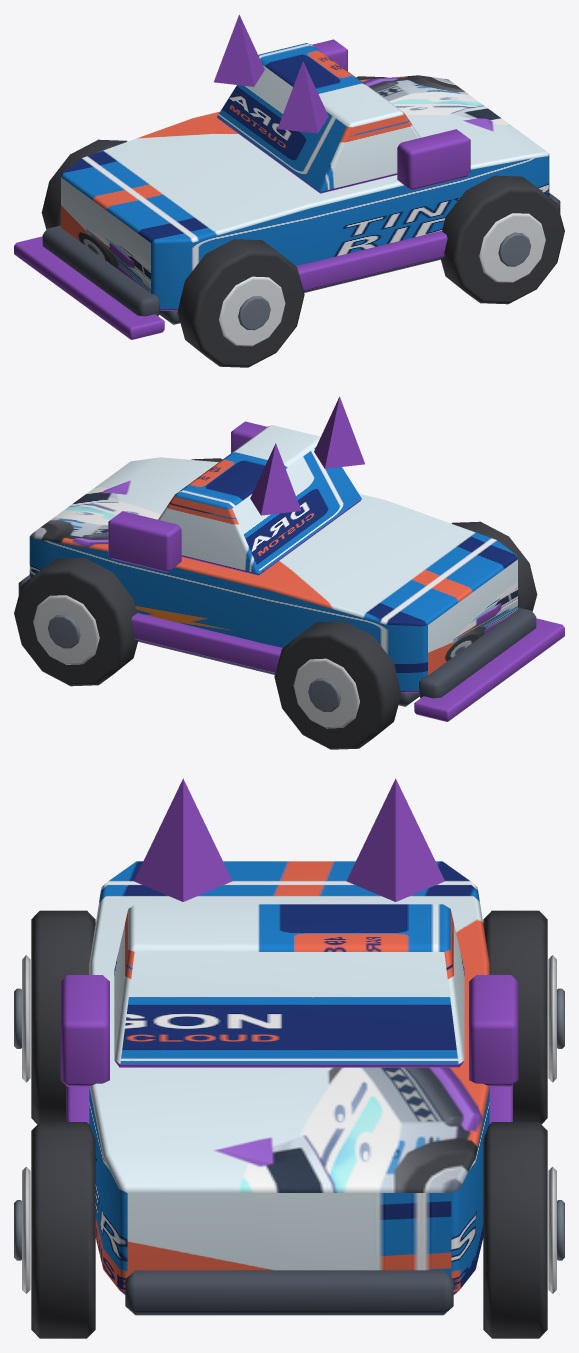
The picture shows the model from 3 angles, top to bottom: view 1: azimuth 30°, elevation 25°; view 2: azimuth 150°, elevation 25°; view 3: azimuth 270°, elevation 25°; orthographic projection. The views are drawn at different scales.
Visible parts, largest first — view 1: CR-05_connected_shell, CR-05_cabin, Tire, Tire.002, custom chin, custom side guard, custom side fin, front bumper, Rim.002, Rim, horn, horn.001 (+5 smaller); view 2: CR-05_connected_shell, CR-05_cabin, Tire.001, Tire.003, custom chin, custom side guard.001, custom side fin.001, front bumper, Rim.003, Rim.001, horn.001, horn (+5 smaller); view 3: CR-05_connected_shell, CR-05_cabin, rear bumper, Tire.002, Tire.003, Tire, Tire.001, horn, horn.001, custom side fin, custom side fin.001, Rim.002 (+5 smaller).
Part boxes in pixels (bbox=[...]): CR-05_connected_shell: bbox=[61, 75, 549, 310]; CR-05_cabin: bbox=[217, 43, 420, 193]; Tire: bbox=[177, 239, 304, 367]; Tire.002: bbox=[440, 175, 564, 304]; custom chin: bbox=[14, 236, 164, 339]; custom side guard: bbox=[296, 230, 447, 291]; custom side fin: bbox=[397, 129, 470, 190]; front bumper: bbox=[42, 225, 160, 316]; Rim.002: bbox=[479, 213, 545, 282]; Rim: bbox=[219, 276, 285, 346]; horn: bbox=[277, 61, 328, 133]; horn.001: bbox=[214, 14, 264, 86]; CR-05_connected_shell: bbox=[29, 457, 517, 692]; CR-05_cabin: bbox=[158, 425, 361, 575]; Tire.001: bbox=[274, 621, 401, 749]; Tire.003: bbox=[14, 557, 138, 686]; custom chin: bbox=[414, 618, 564, 721]; custom side guard.001: bbox=[131, 612, 282, 673]; custom side fin.001: bbox=[108, 511, 181, 572]; front bumper: bbox=[418, 607, 536, 698]; Rim.003: bbox=[33, 595, 99, 664]; Rim.001: bbox=[293, 658, 359, 728]; horn.001: bbox=[250, 443, 301, 515]; horn: bbox=[314, 396, 364, 468]; CR-05_connected_shell: bbox=[89, 861, 489, 1294]; CR-05_cabin: bbox=[114, 904, 464, 1067]; rear bumper: bbox=[125, 1270, 453, 1315]; Tire.002: bbox=[31, 1122, 95, 1338]; Tire.003: bbox=[483, 1122, 547, 1338]; Tire: bbox=[31, 910, 95, 1124]; Tire.001: bbox=[483, 910, 547, 1124]; horn: bbox=[134, 778, 232, 901]; horn.001: bbox=[346, 778, 444, 901]; custom side fin: bbox=[60, 975, 109, 1086]; custom side fin.001: bbox=[469, 975, 518, 1086]; Rim.002: bbox=[22, 1166, 30, 1293].
Bounding box in the file's own units: 344 × 187 × 223.
